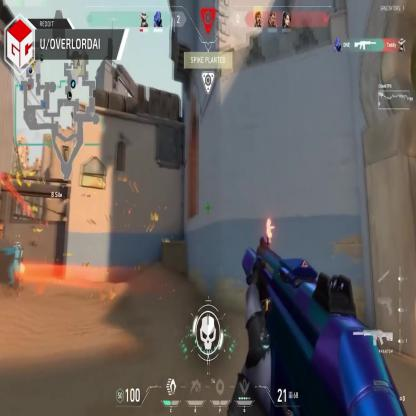enemy: (266, 217, 274, 245)
enemy_head: (267, 219, 271, 226)
